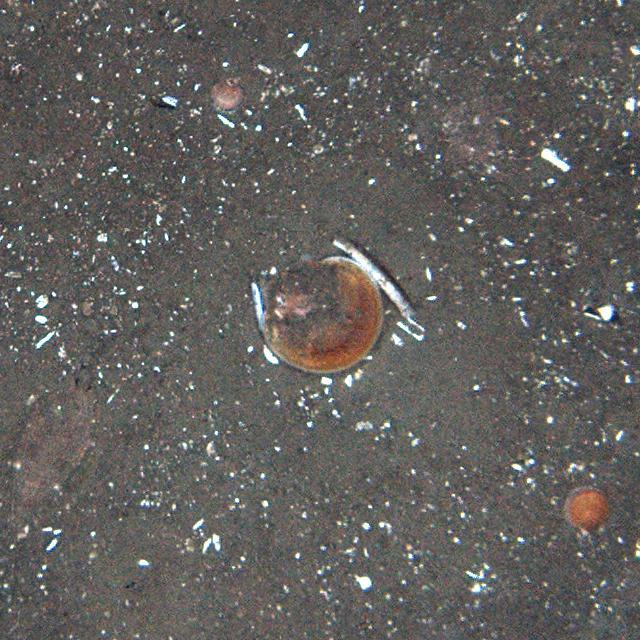scallop: (252, 254, 387, 377), (564, 482, 612, 534)
